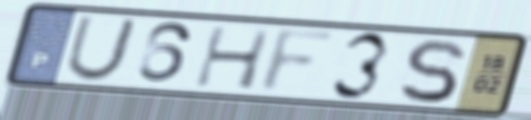3: (327, 30, 401, 103)
6: (136, 20, 195, 88)
F: (253, 26, 344, 96)
H: (190, 24, 275, 92)
S: (396, 37, 468, 105)
U: (61, 14, 142, 84)
